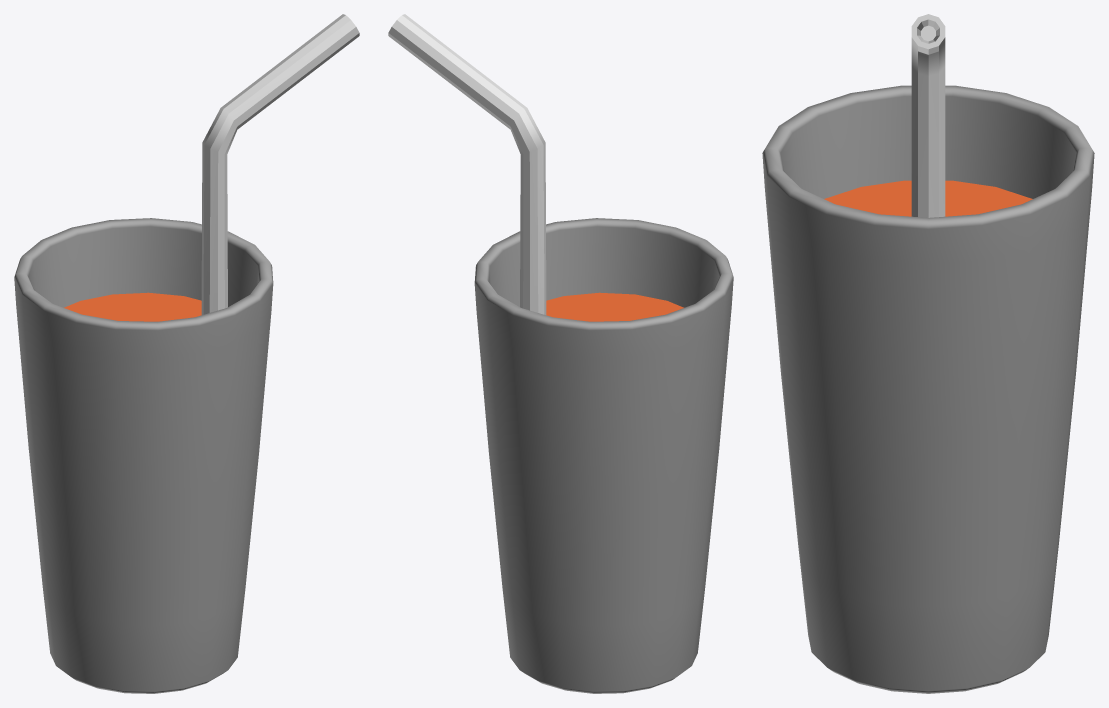
File: Juice glass 1.fbx
The picture shows the model from 3 angles, left to right: view 1: azimuth 30°, elevation 25°; view 2: azimuth 150°, elevation 25°; view 3: azimuth 270°, elevation 25°; orthographic projection. The views are drawn at different scales.
Parts seen in each view (by area): view 1: Juice_glass; view 2: Juice_glass; view 3: Juice_glass.
Part boxes in pixels (<box>): Juice_glass: <box>14,14,359,693</box>; Juice_glass: <box>388,14,733,693</box>; Juice_glass: <box>762,14,1094,693</box>.
Size of the model in its own units: 8.44 by 14.77 by 5.86.
2 materials, 1 textured.
